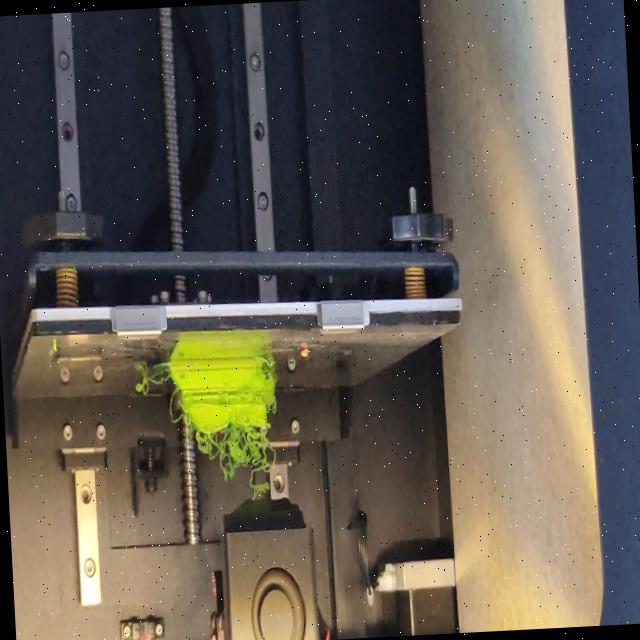spaghetti: (194, 426, 280, 504), (168, 386, 185, 429), (136, 378, 169, 396), (264, 358, 278, 372)
